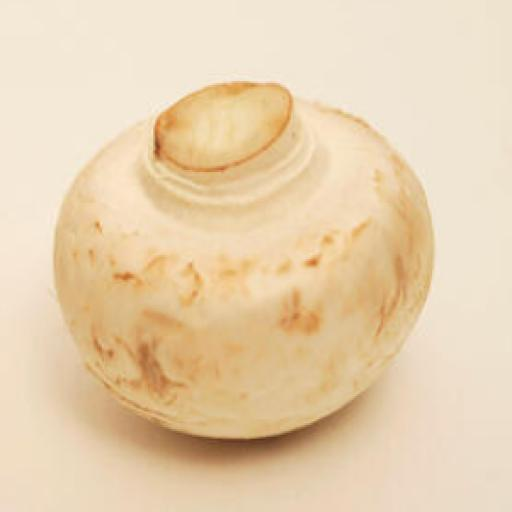Button Mushroom: (52, 74, 438, 441)
